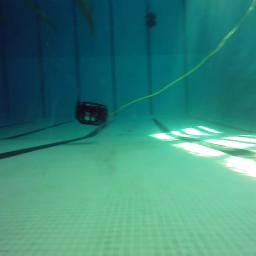Side: (76, 99, 110, 129)
